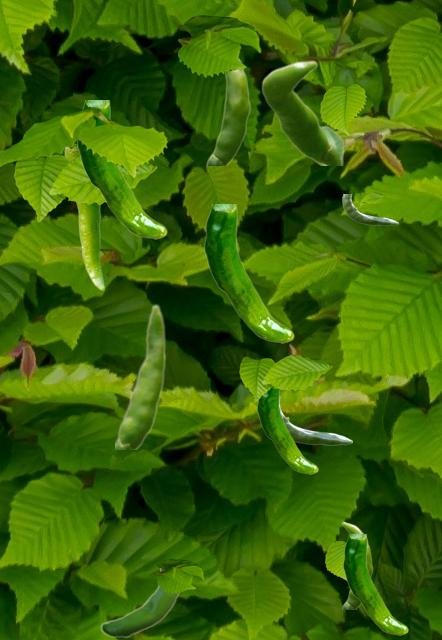green_chili: (204, 204, 293, 342), (77, 100, 166, 238), (261, 60, 342, 164), (115, 303, 165, 448), (343, 534, 407, 634), (64, 144, 103, 289), (100, 568, 181, 637), (257, 387, 317, 473), (206, 57, 250, 164), (280, 396, 351, 444), (341, 521, 372, 608), (342, 194, 397, 224)
